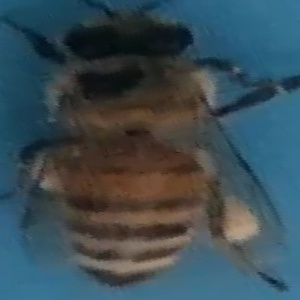bee: (12, 2, 288, 292)
